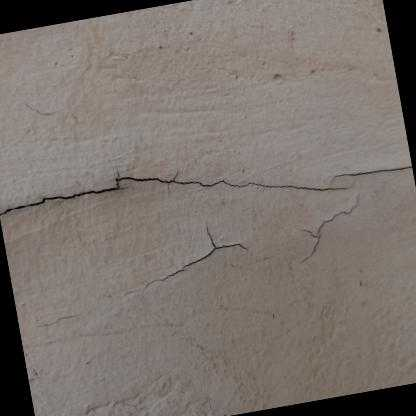crack: (5, 175, 350, 214), (328, 162, 413, 181)
